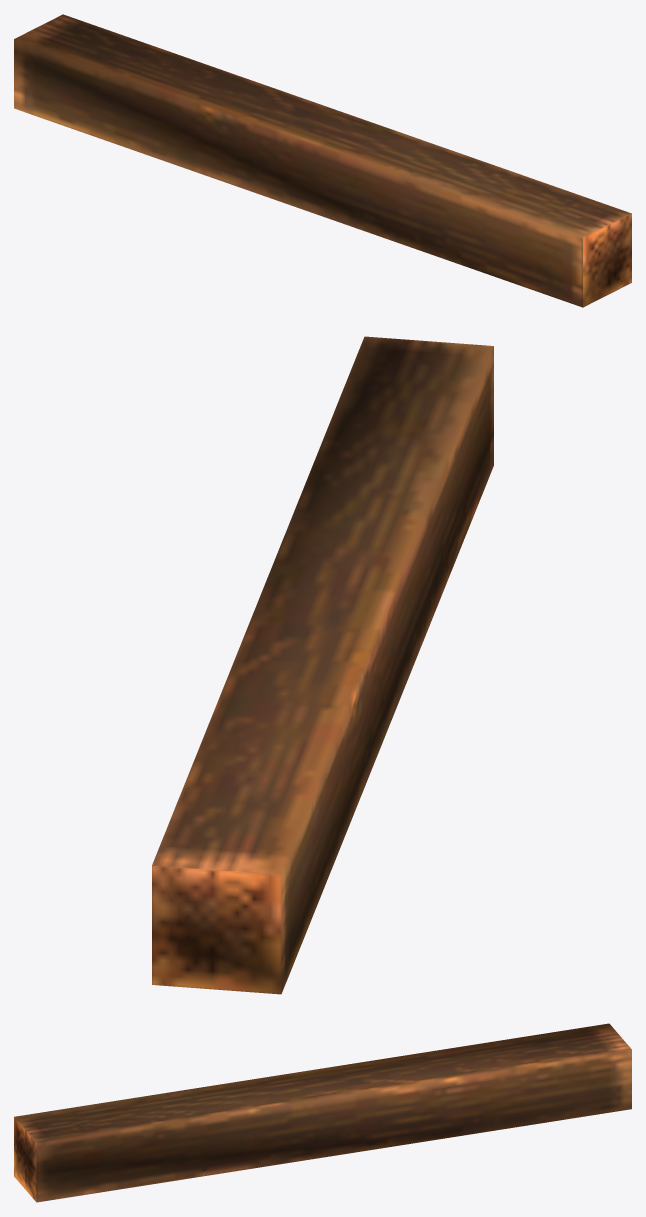
Rendered from SWORDLIGHT20_JAILBRACE58.fbx.
3 renders of one model, top to bottom at view 1: azimuth 30°, elevation 25°; view 2: azimuth 150°, elevation 25°; view 3: azimuth 270°, elevation 25°, orthographic. The views are drawn at different scales.
Parts seen in each view (by area): view 1: SWORDLIGHT20_JAILBRACE58; view 2: SWORDLIGHT20_JAILBRACE58; view 3: SWORDLIGHT20_JAILBRACE58.
Part boxes in pixels (x1,y1,x2,y2): SWORDLIGHT20_JAILBRACE58: (14, 14, 631, 307); SWORDLIGHT20_JAILBRACE58: (152, 336, 493, 994); SWORDLIGHT20_JAILBRACE58: (14, 1023, 631, 1202).
Size of the model in its own units: 17196 by 4000 by 37583.
Materials: 1 (1 with a texture image).
